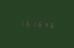four: (42, 20, 47, 28)
one: (17, 18, 22, 27), (30, 19, 35, 27)
six: (36, 19, 41, 28), (48, 20, 53, 29), (23, 19, 28, 27)
